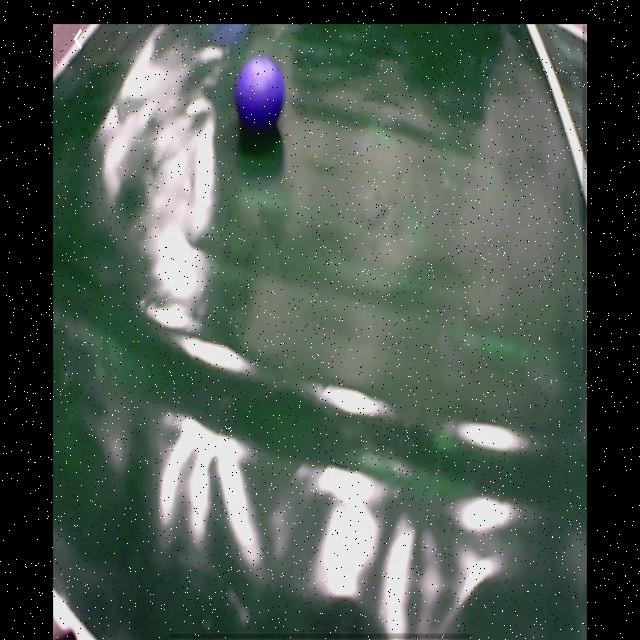ball: (236, 57, 285, 131)
